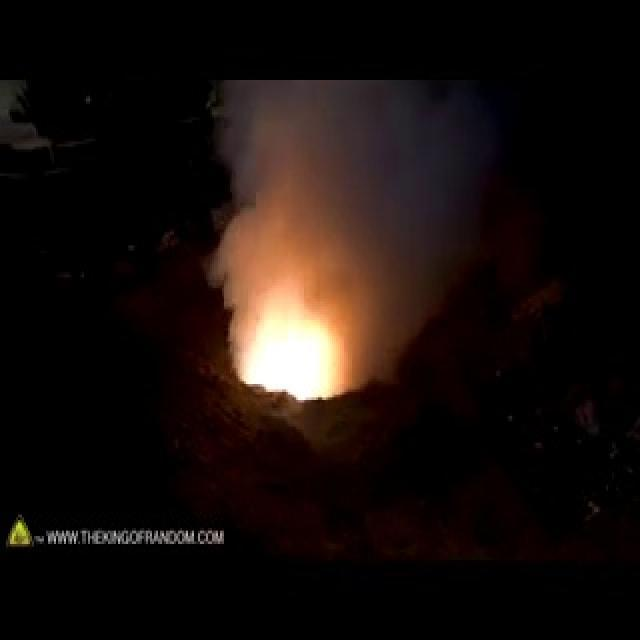Fire: (226, 254, 374, 406)
Smoke: (201, 80, 498, 277)
